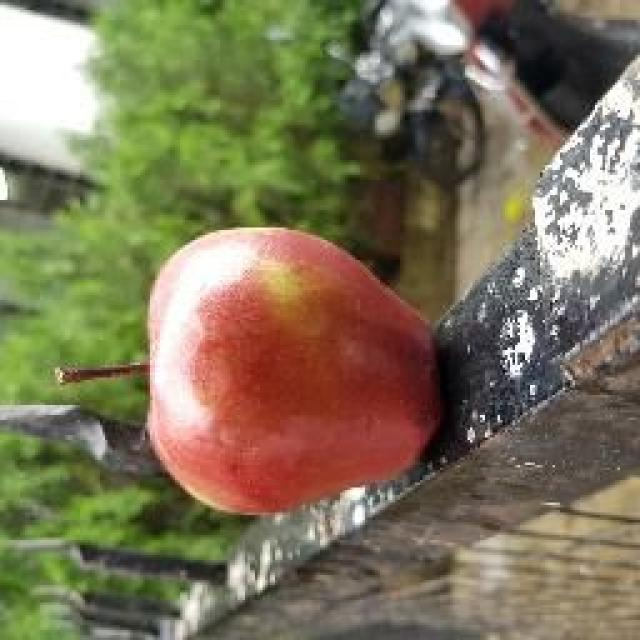Good_Apple: (145, 228, 445, 520)
